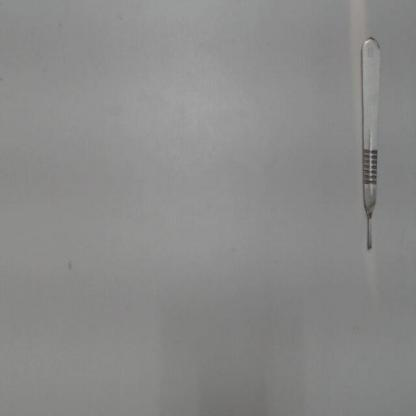No.3 BP Handle: (350, 21, 386, 262)
